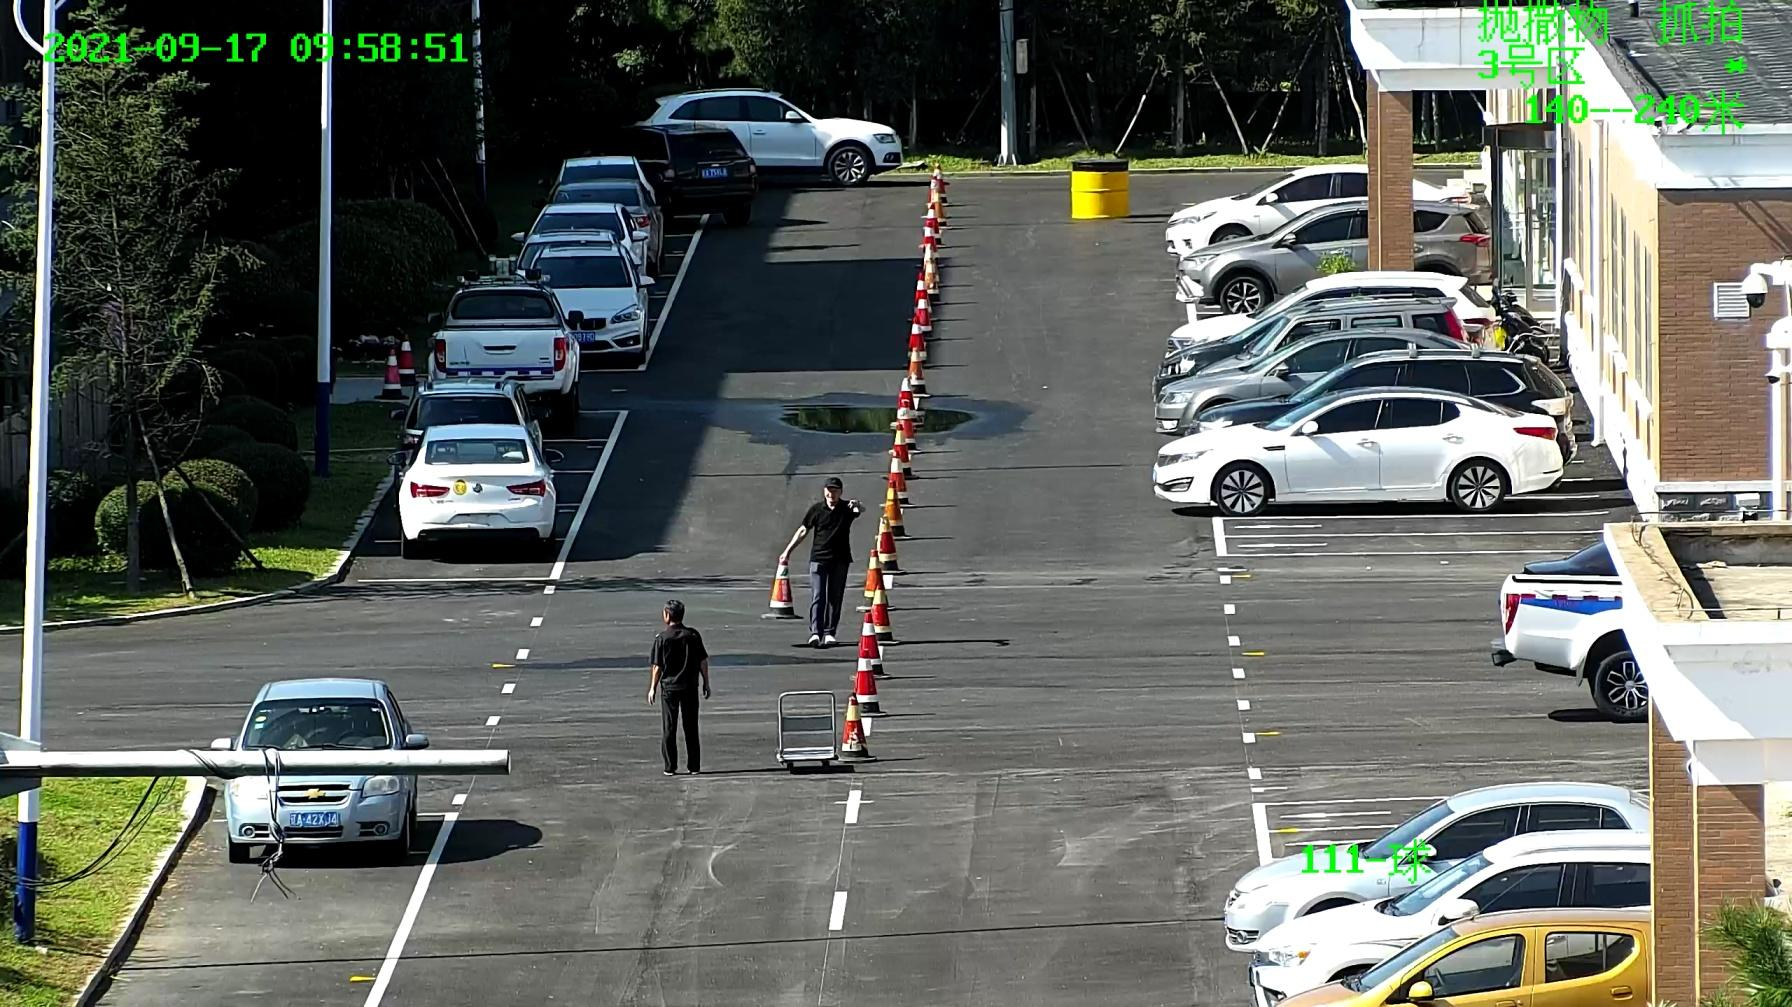cone_barrel: (834, 692, 871, 761), (762, 549, 798, 618), (854, 612, 889, 678), (857, 549, 894, 611), (850, 648, 882, 716), (377, 332, 409, 398), (866, 584, 897, 644), (882, 480, 908, 539), (903, 318, 933, 368), (874, 518, 901, 572), (886, 452, 913, 506), (390, 334, 415, 391), (907, 291, 937, 339), (889, 423, 914, 478), (906, 347, 928, 396), (910, 273, 935, 315)
